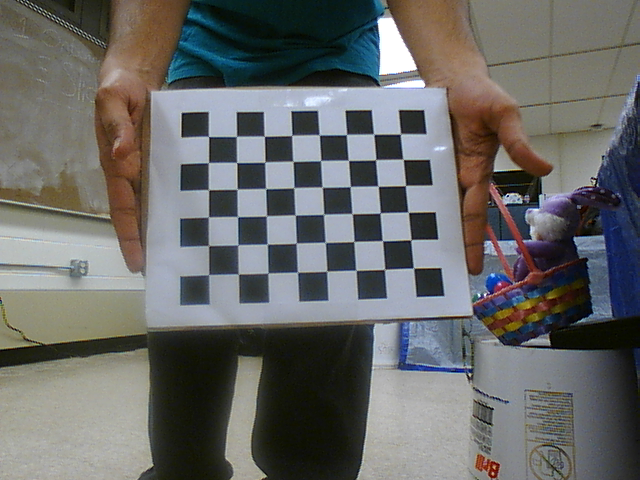bunny: (472, 174, 594, 346)
